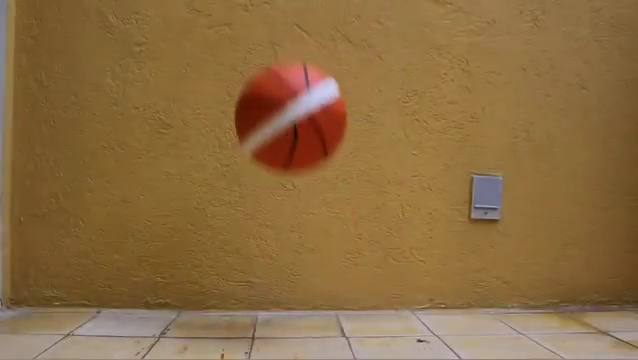ball: (233, 60, 351, 172)
